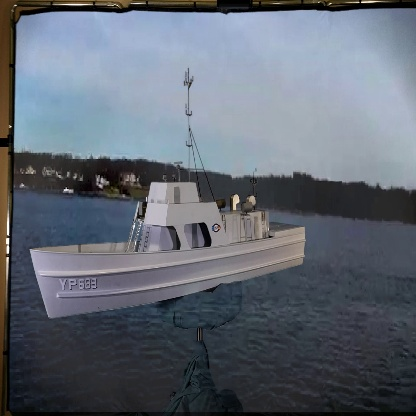YP689: (28, 68, 302, 325)
